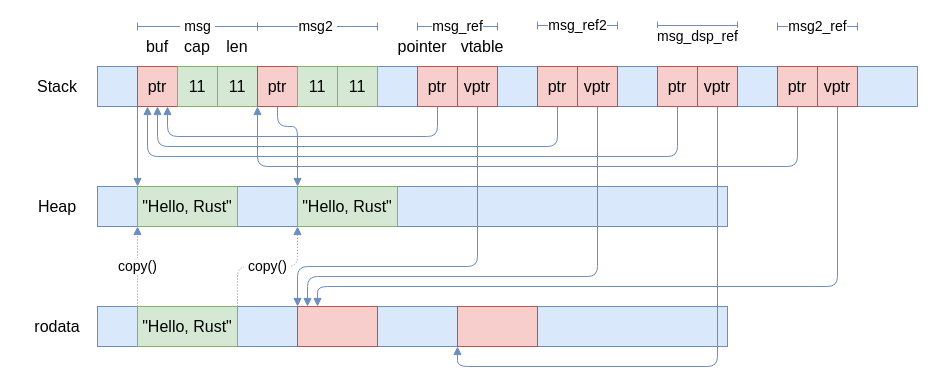
Image size: 935x392. Some labels were removed from this diagram. Here are the shapes that lost their labels. From the top down, the centre of each, then its label:
point (337, 326): Debug vtable
point (497, 326): Display vtable
